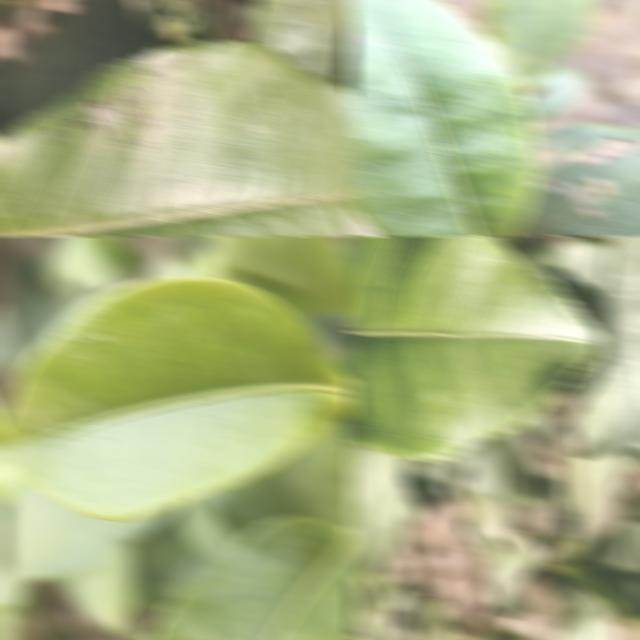Leaf: (0, 277, 356, 520), (0, 40, 356, 236), (348, 236, 602, 461), (348, 0, 541, 236), (144, 516, 356, 640), (0, 484, 179, 606), (574, 236, 640, 458), (509, 126, 640, 236), (208, 236, 356, 317), (479, 0, 598, 90), (348, 444, 412, 584), (557, 518, 640, 621), (246, 0, 349, 80), (444, 434, 540, 511), (550, 605, 618, 640)
